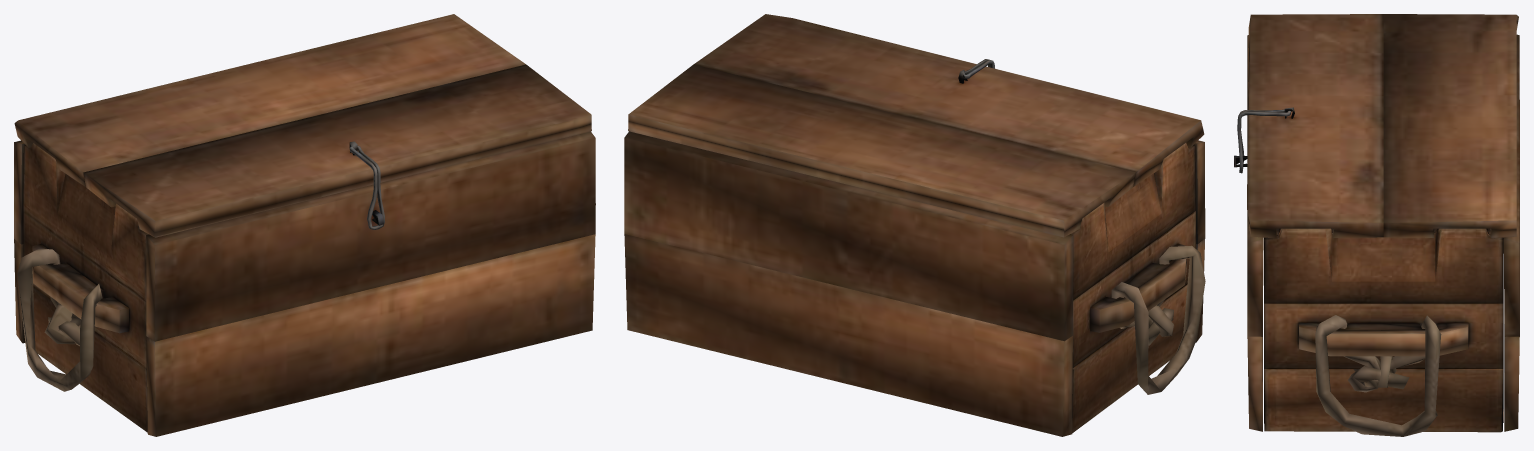
The model's file is wooden_crate_01.glb.
3 renders of one model, left to right at view 1: azimuth 30°, elevation 25°; view 2: azimuth 150°, elevation 25°; view 3: azimuth 270°, elevation 25°, orthographic. The views are drawn at different scales.
Parts seen in each view (by area): view 1: wooden_crate_01, wooden_crate_01_lid, wooden_crate_01_latch; view 2: wooden_crate_01, wooden_crate_01_lid; view 3: wooden_crate_01_lid, wooden_crate_01, wooden_crate_01_latch.
Boxes of the visible parts, x1,y1,x2,y2 form: wooden_crate_01: [14, 131, 595, 436]; wooden_crate_01_lid: [14, 14, 591, 237]; wooden_crate_01_latch: [349, 145, 384, 229]; wooden_crate_01: [624, 131, 1205, 436]; wooden_crate_01_lid: [628, 14, 1204, 237]; wooden_crate_01_lid: [1247, 14, 1518, 238]; wooden_crate_01: [1234, 34, 1519, 436]; wooden_crate_01_latch: [1237, 109, 1290, 173].
Bounding box in the file's own units: 0.8245 × 0.3477 × 0.4042.
Materials: 1 (1 with a texture image).
